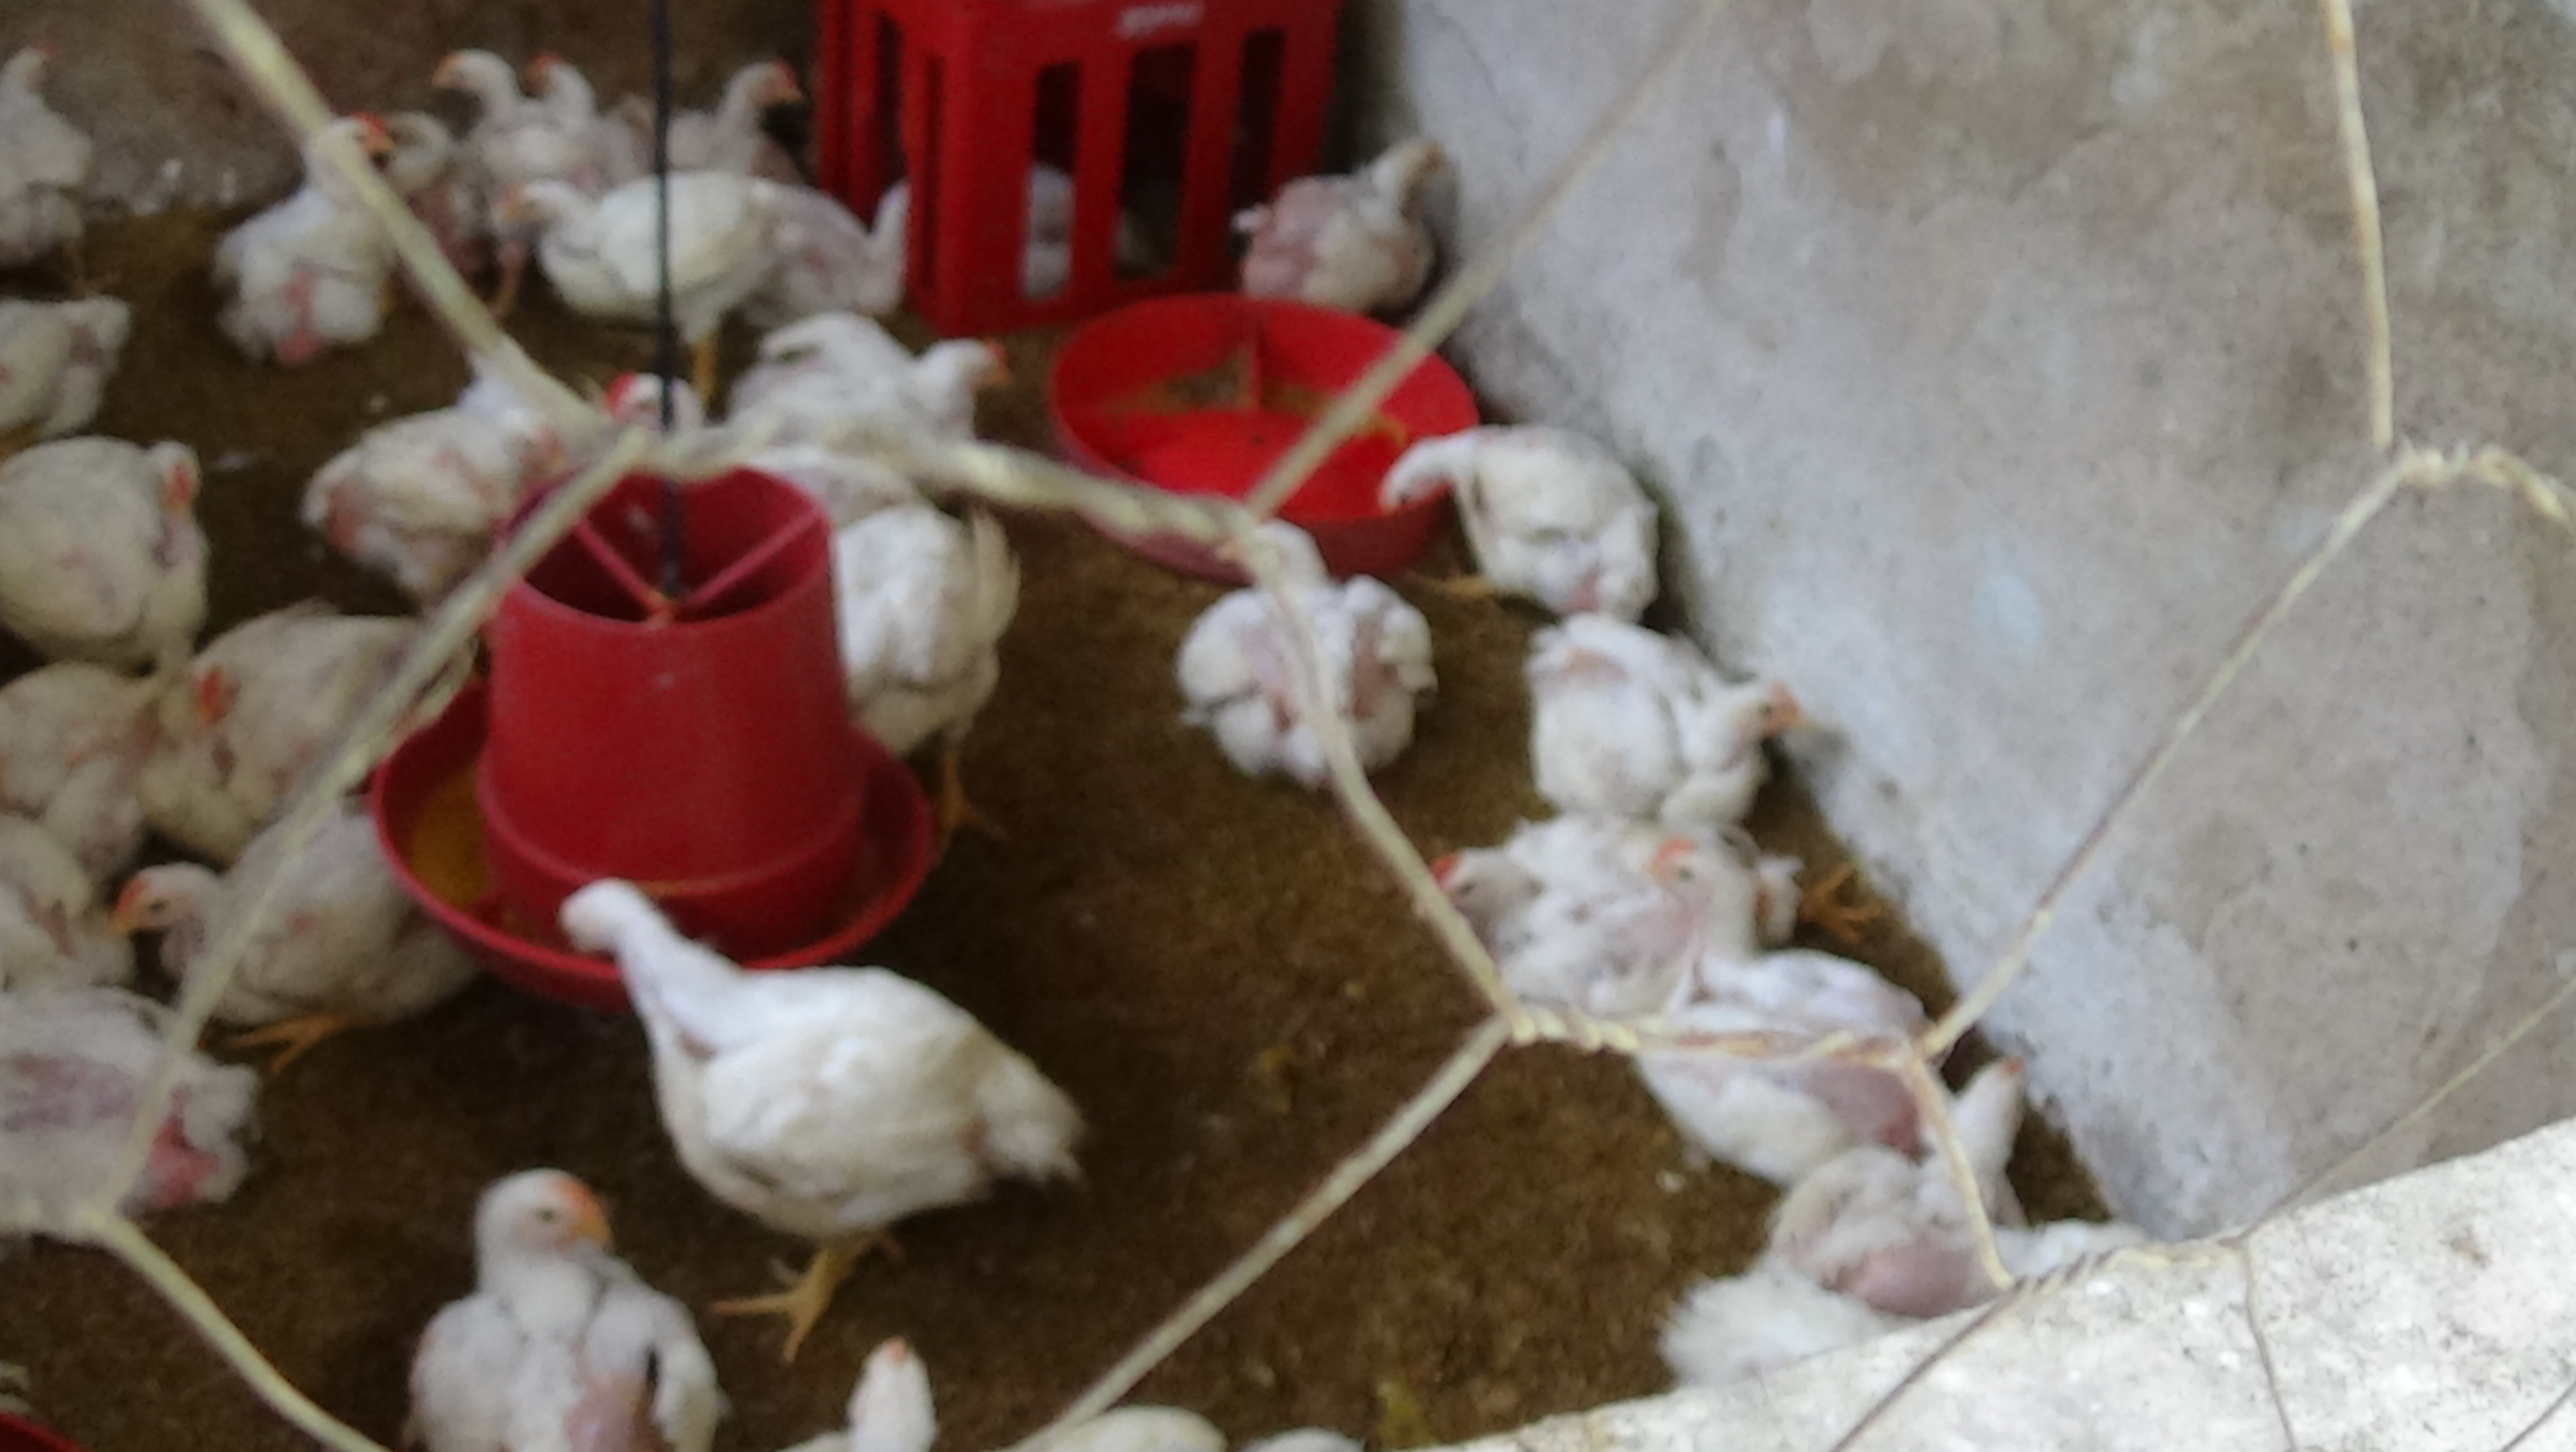Pollos: (563, 843, 1102, 1261), (377, 1140, 718, 1452), (1154, 508, 1433, 779), (129, 848, 471, 1061), (817, 498, 1030, 811), (1527, 618, 1822, 816), (297, 351, 524, 606), (163, 609, 437, 818), (1798, 1032, 2047, 1257), (1389, 421, 1665, 616), (214, 104, 418, 367), (0, 1029, 262, 1222), (497, 172, 784, 344), (764, 296, 1010, 478), (1231, 133, 1463, 324), (0, 425, 216, 613), (1631, 832, 1828, 1016), (1417, 827, 1583, 972), (0, 35, 97, 278), (0, 289, 150, 418), (810, 1303, 941, 1447), (694, 48, 805, 170), (609, 359, 718, 462), (518, 44, 605, 138), (433, 34, 525, 120)
